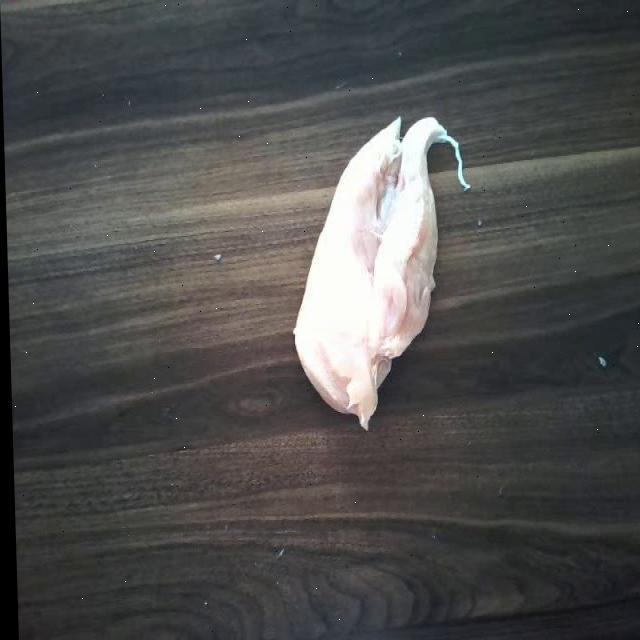breast: (278, 94, 444, 418)
